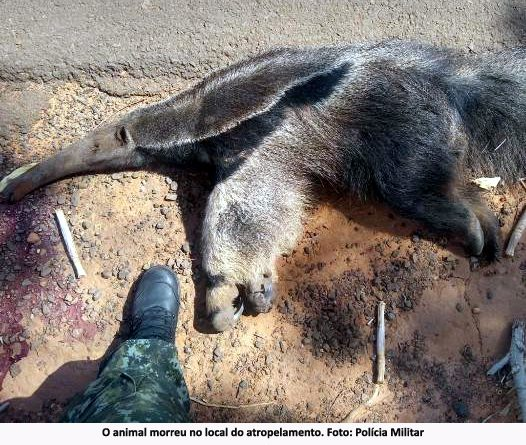TamanduaBandeira: (4, 44, 515, 328)
